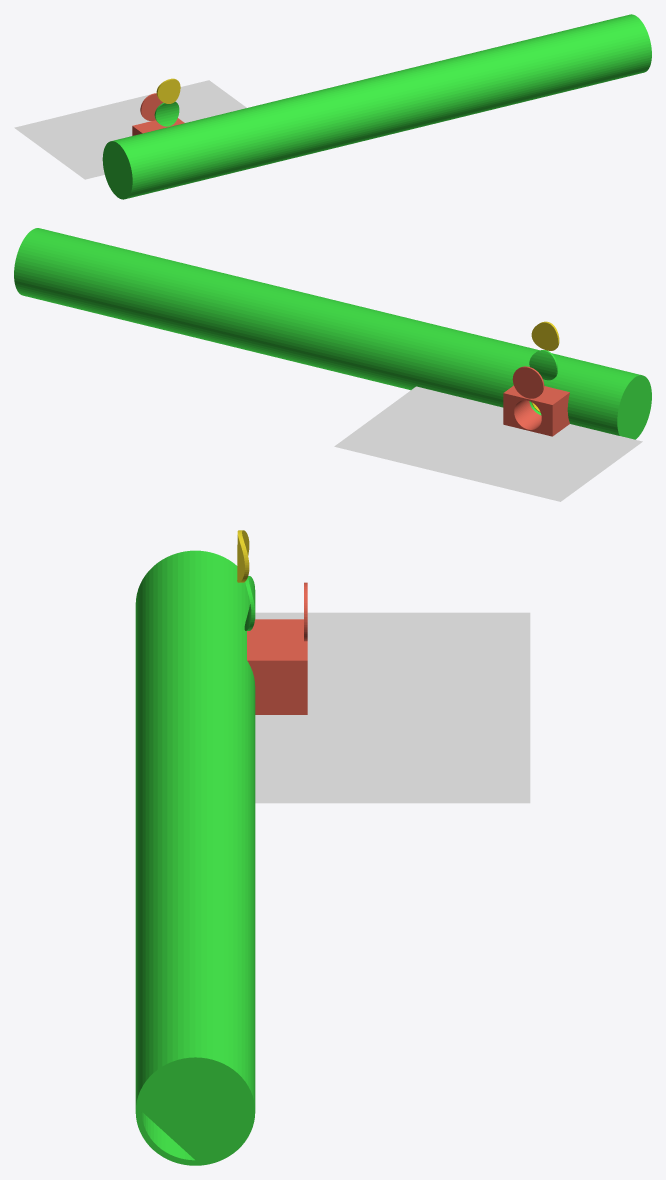
Rendered from Stationskomponenten.fbx.
The picture shows the model from 3 angles, top to bottom: view 1: azimuth 30°, elevation 25°; view 2: azimuth 150°, elevation 25°; view 3: azimuth 270°, elevation 25°; orthographic projection. The views are drawn at different scales.
Parts seen in each view (by area): view 1: Röhre, Boden, Röhre_Tür, Hyperloop_Tür, Schleuse_Tür, Schleuse; view 2: Röhre, Boden, Schleuse, Schleuse_Tür, Hyperloop_Tür, Röhre_Tür; view 3: Röhre, Boden, Schleuse.
Part boxes in pixels (<box>): Röhre: <box>102,14,651,199</box>; Boden: <box>14,80,246,179</box>; Röhre_Tür: <box>154,101,179,126</box>; Hyperloop_Tür: <box>156,78,180,103</box>; Schleuse_Tür: <box>140,93,163,120</box>; Schleuse: <box>132,118,184,135</box>; Röhre: <box>14,228,651,439</box>; Boden: <box>334,386,642,501</box>; Schleuse: <box>503,385,569,436</box>; Schleuse_Tür: <box>512,366,544,398</box>; Hyperloop_Tür: <box>531,321,559,350</box>; Röhre_Tür: <box>529,350,557,380</box>; Röhre: <box>135,550,255,1165</box>; Boden: <box>255,612,530,803</box>; Schleuse: <box>247,619,307,714</box>.
Bounding box in the file's own units: 4154 × 694 × 1316.
